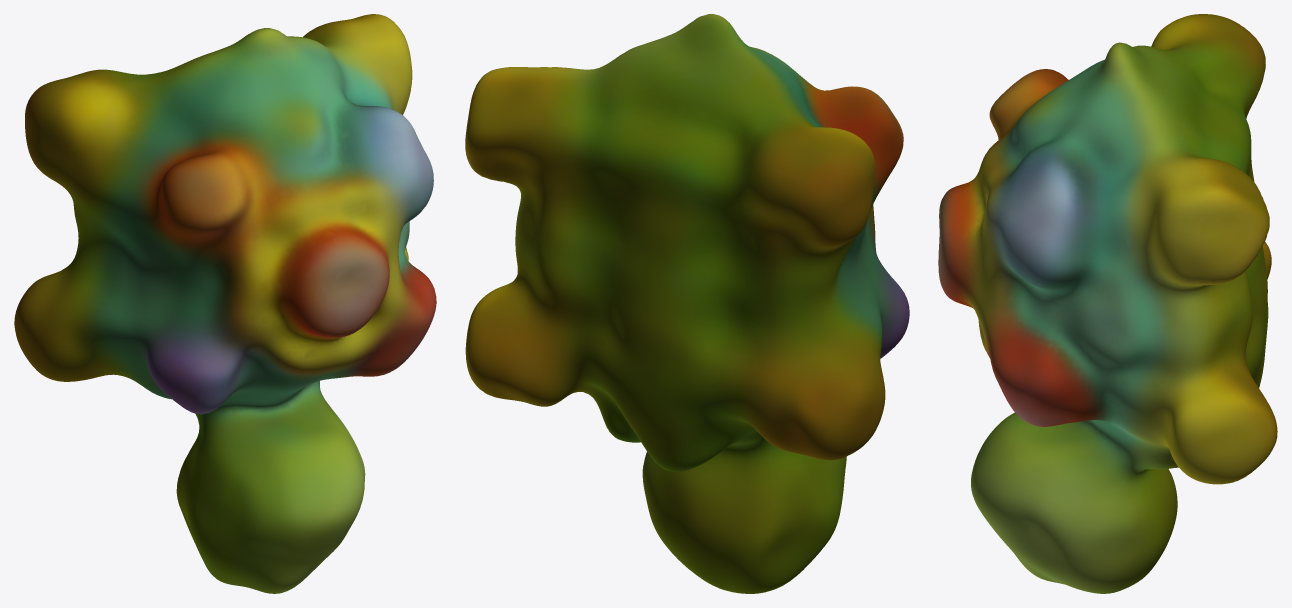
The model's file is turtle.glb.
3 views of the same model, side by side, from view 1: azimuth 30°, elevation 25°; view 2: azimuth 150°, elevation 25°; view 3: azimuth 270°, elevation 25° (orthographic). The views are drawn at different scales.
Bounding box in the file's own units: 0.7205 × 0.9992 × 0.559.
